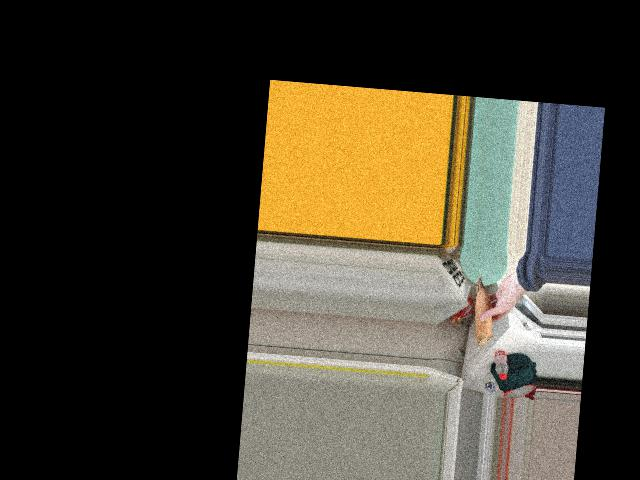sweet_potato: (474, 281, 498, 349)
